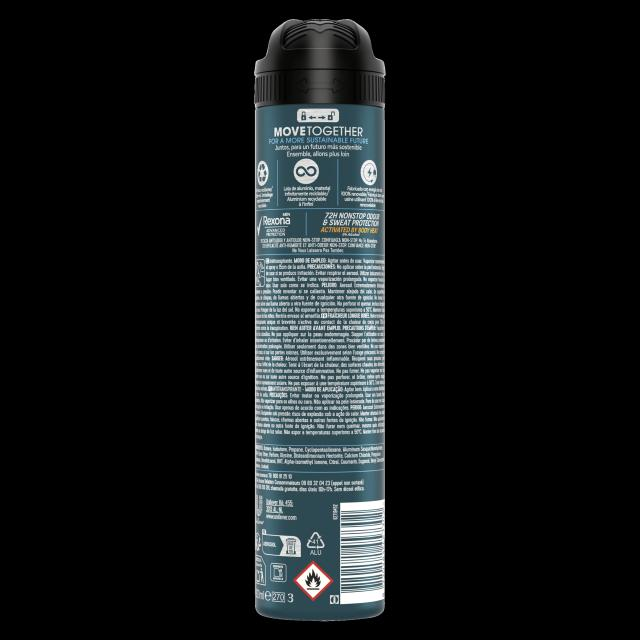GHS_Symbol_FLAME: (292, 558, 335, 602)
